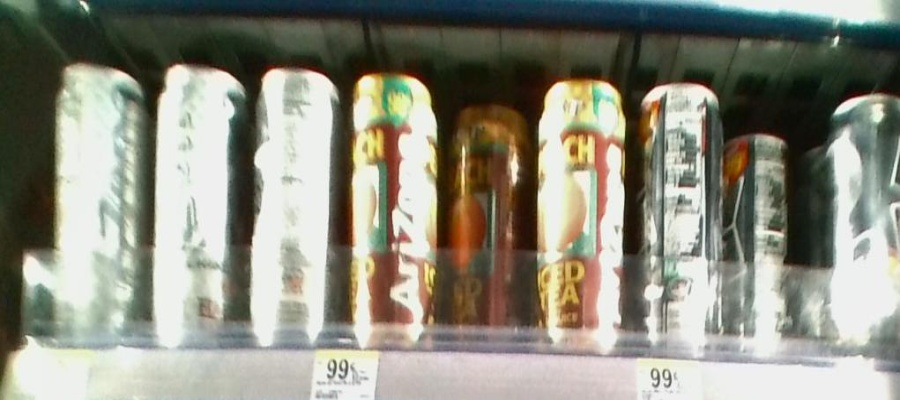bottle: (48, 53, 146, 351), (345, 58, 440, 343), (249, 58, 340, 351), (151, 61, 243, 346), (632, 80, 726, 355), (539, 81, 629, 354), (445, 99, 532, 355), (824, 90, 900, 356), (733, 119, 790, 348)
